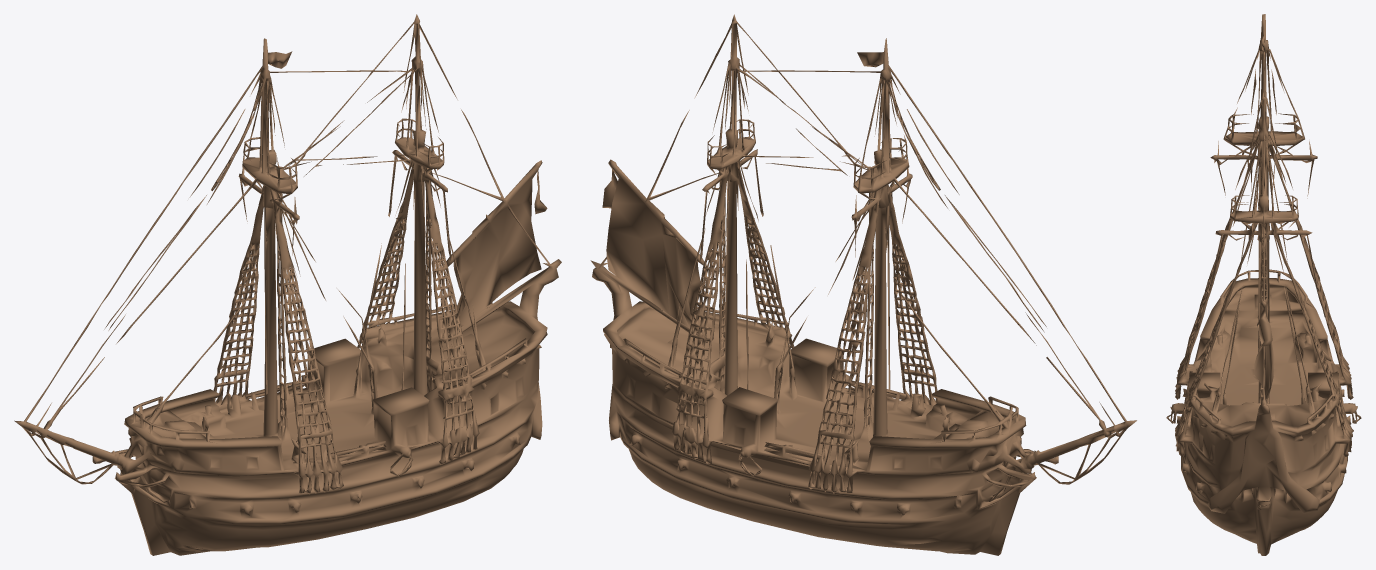
File: brigantine_lod1.glb
3 renders of one model, left to right at view 1: azimuth 30°, elevation 25°; view 2: azimuth 150°, elevation 25°; view 3: azimuth 270°, elevation 25°, orthographic. The views are drawn at different scales.
Visible parts, largest first — view 1: BrigantineLOD; view 2: BrigantineLOD; view 3: BrigantineLOD.
Part boxes in pixels (x1,y1,x2,y2): BrigantineLOD: [14, 14, 561, 555]; BrigantineLOD: [590, 14, 1136, 555]; BrigantineLOD: [1166, 14, 1361, 555].
Size of the model in its own units: 6.27 by 5.45 by 2.19.
